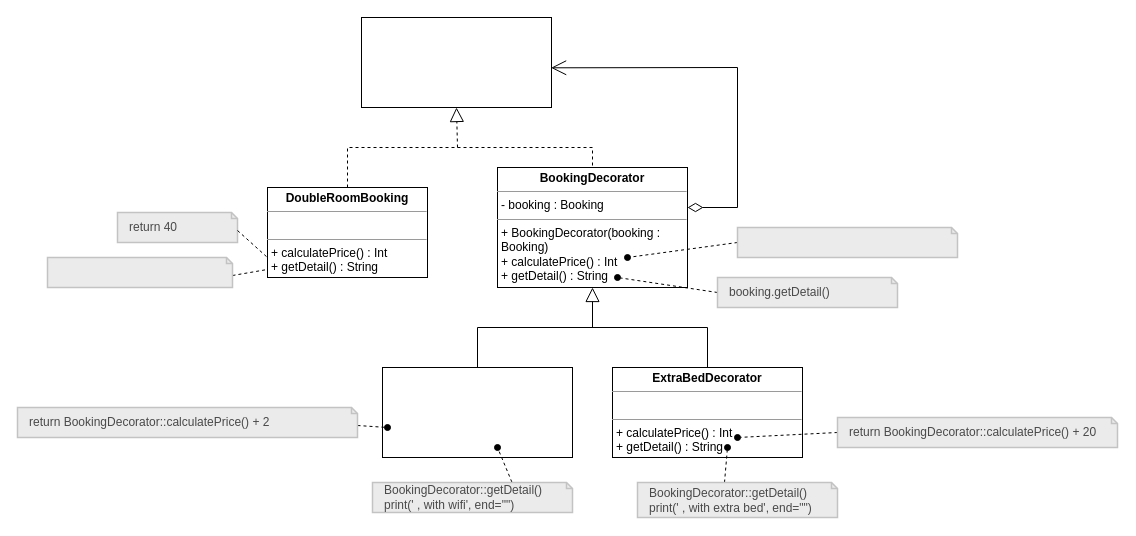
Image size: 1136x536. Some labels were removed from this diagram. Each missing label, with the box of its shape:
<<Interface>> Booking + calculatePrice() : Int + getDetail() : String: (360, 16, 552, 108)
print('DoubleRoom', end=""): (46, 256, 233, 288)
return booking.calculatePrice(): (736, 226, 958, 258)
WifiDecorator + calculatePrice() : Int + getDetail() : String: (382, 366, 572, 458)
